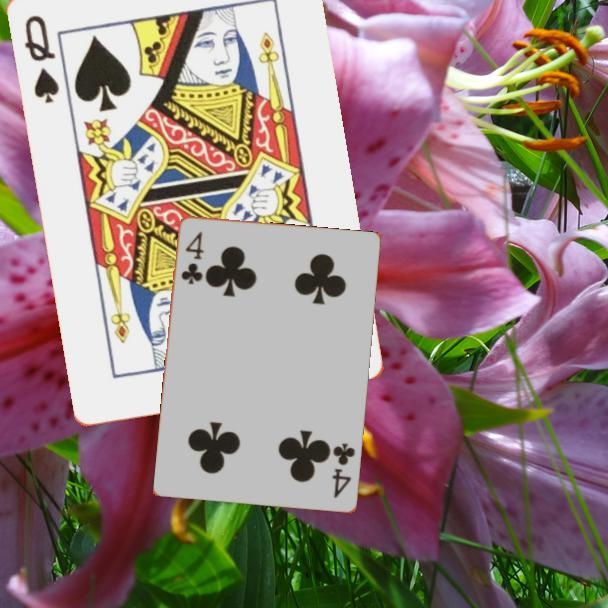c04: (329, 440, 358, 501), (178, 228, 206, 287)
s12: (21, 12, 63, 107)
